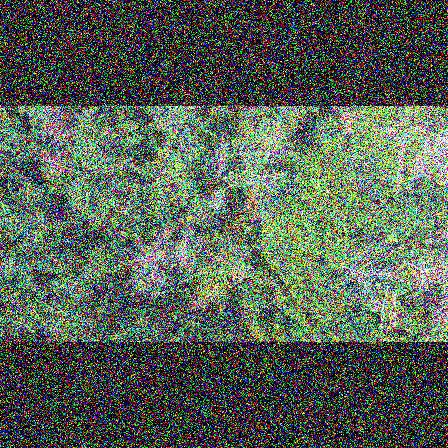Dead: (332, 242, 396, 300), (117, 232, 167, 291), (24, 106, 80, 156), (196, 135, 242, 181), (164, 228, 207, 276), (205, 184, 235, 217)
